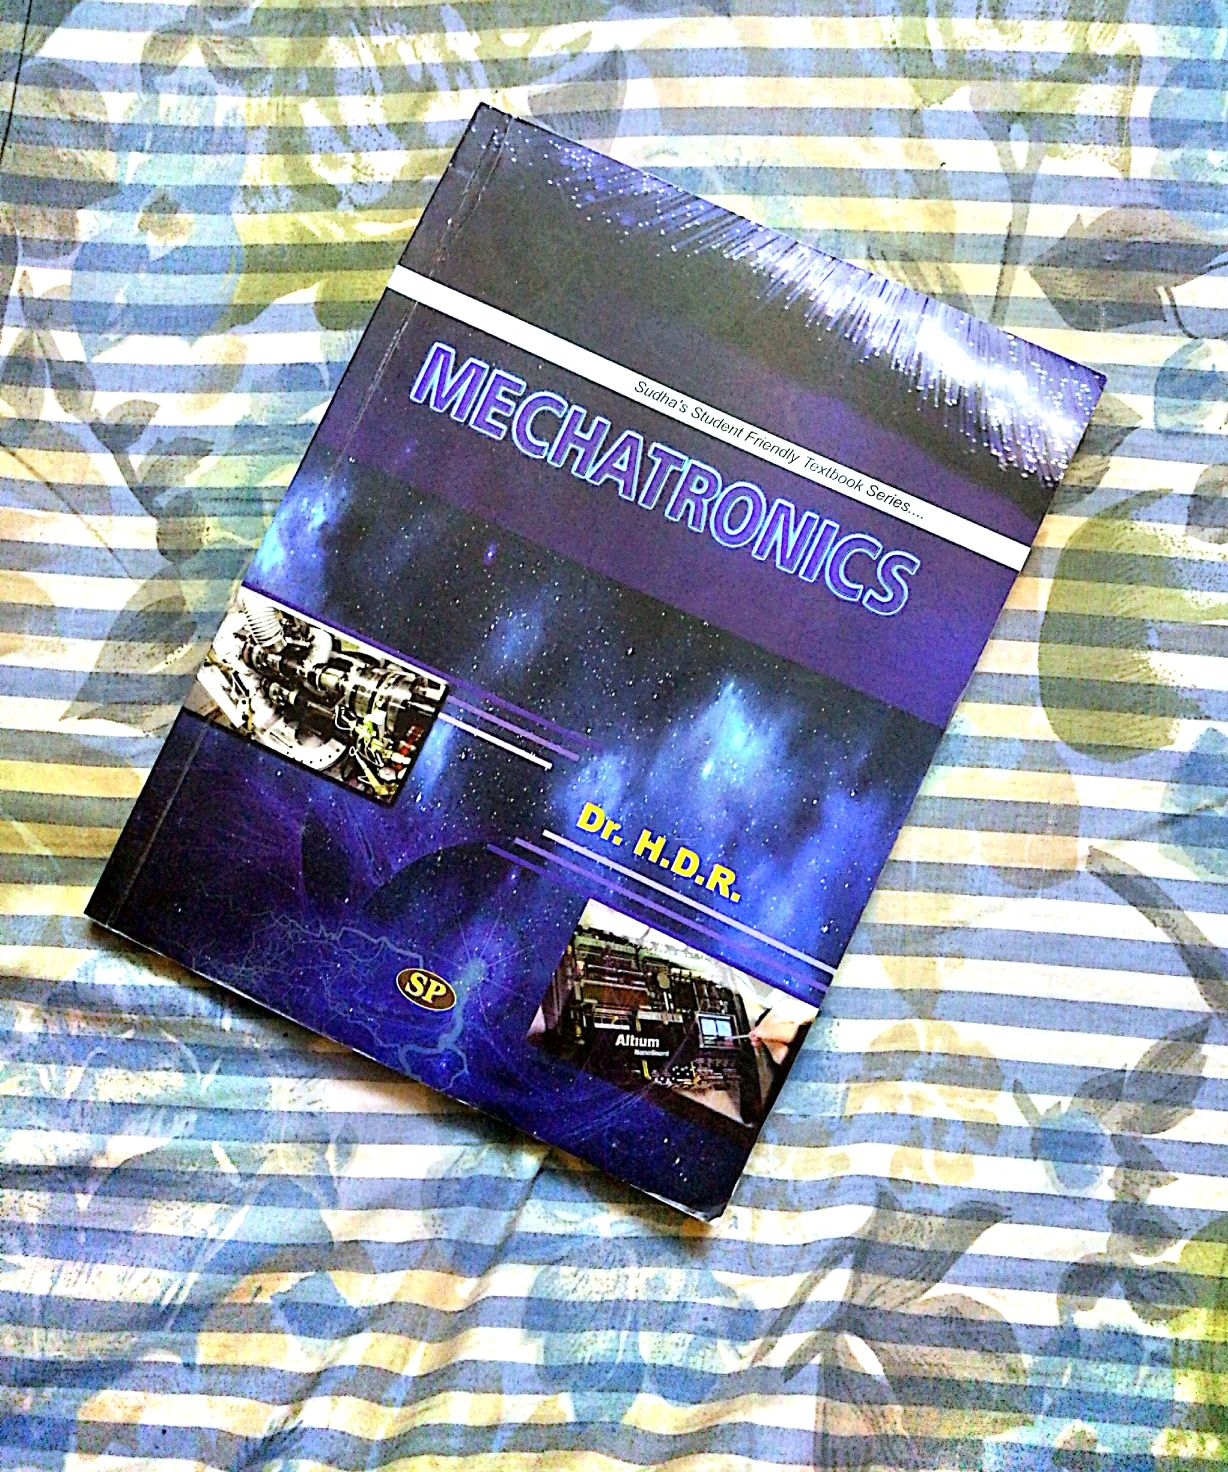mechatronics: (133, 125, 1040, 1192)
